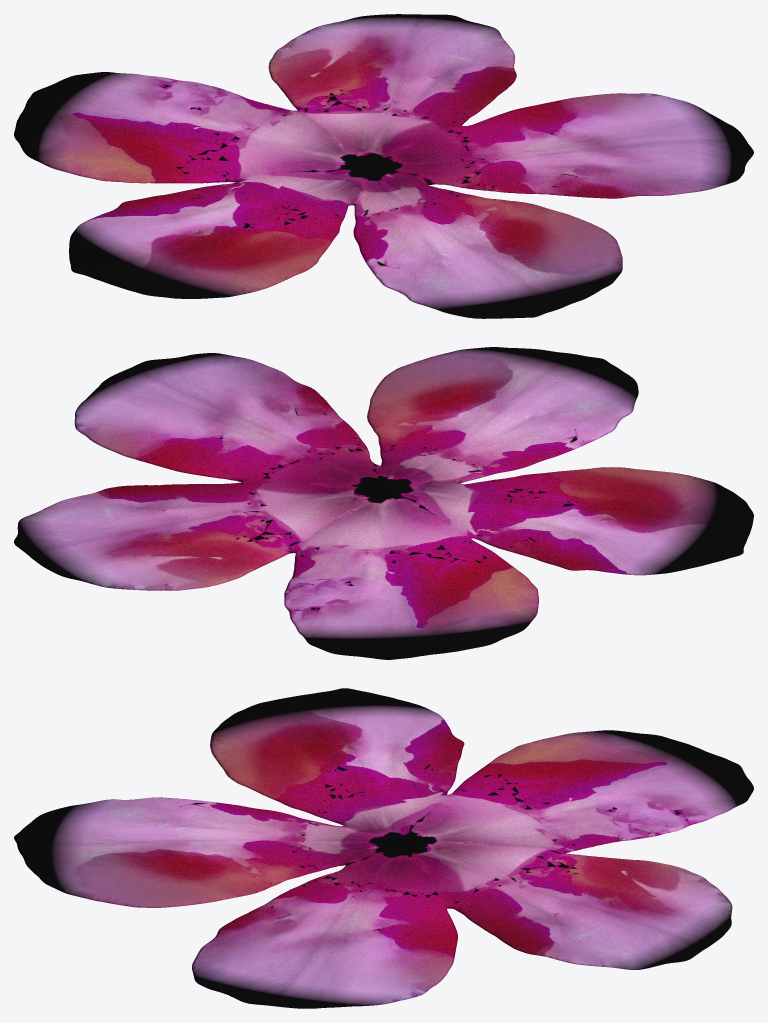
File: flor_01_mobile.glb
The picture shows the model from 3 angles, top to bottom: view 1: azimuth 30°, elevation 25°; view 2: azimuth 150°, elevation 25°; view 3: azimuth 270°, elevation 25°; orthographic projection.
Visible parts, largest first — view 1: mm_frame (3).001; view 2: mm_frame (3).001; view 3: mm_frame (3).001.
Part boxes in pixels (x1=…): mm_frame (3).001: x1=14, y1=14, x2=753, y2=318; mm_frame (3).001: x1=14, y1=347, x2=753, y2=659; mm_frame (3).001: x1=14, y1=688, x2=753, y2=1008.
Size of the model in its own units: 0.2692 by 0.00493 by 0.2626.
1 material, 1 textured.
